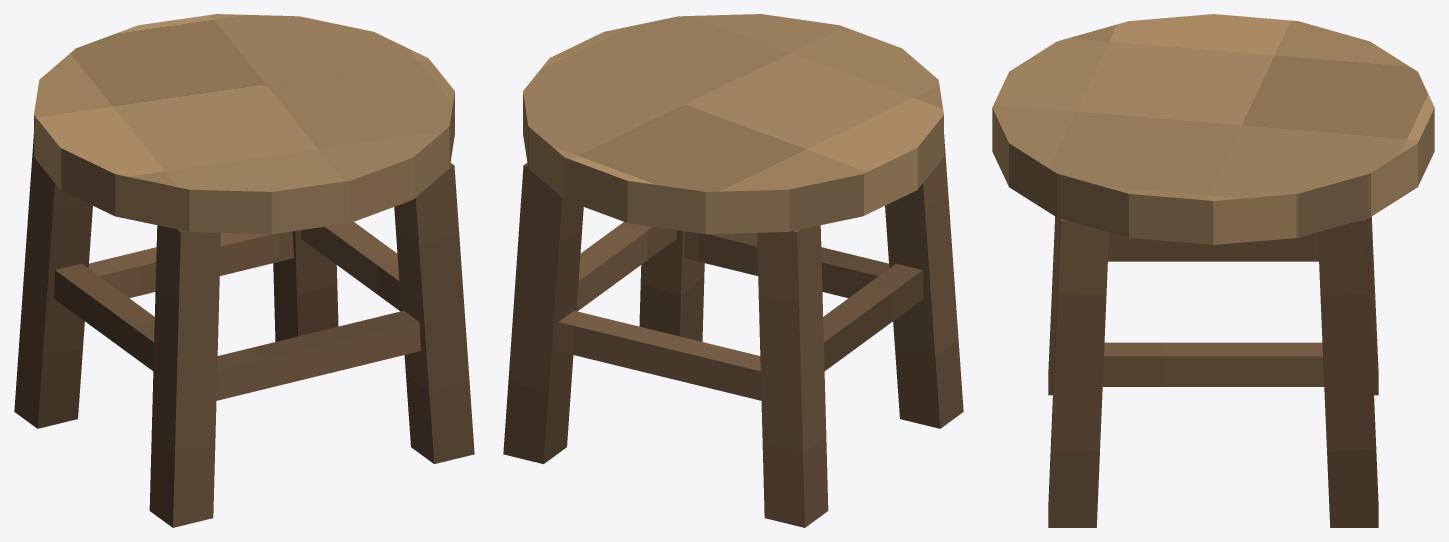
The model's file is wood-round-stool.glb.
3 renders of one model, left to right at view 1: azimuth 30°, elevation 25°; view 2: azimuth 150°, elevation 25°; view 3: azimuth 270°, elevation 25°, orthographic. The views are drawn at different scales.
Parts seen in each view (by area): view 1: wood-round-stool/seat, wood-round-stool/leg-0-0, wood-round-stool/leg-1-0, wood-round-stool/leg-0-1, wood-round-stool/cross-stretcher--1, wood-round-stool/leg-1-1, wood-round-stool/end-stretcher--1, wood-round-stool/cross-stretcher-1, wood-round-stool/end-stretcher-1; view 2: wood-round-stool/seat, wood-round-stool/leg-0-1, wood-round-stool/leg-1-1, wood-round-stool/leg-0-0, wood-round-stool/cross-stretcher-1, wood-round-stool/leg-1-0, wood-round-stool/end-stretcher--1, wood-round-stool/cross-stretcher--1, wood-round-stool/end-stretcher-1; view 3: wood-round-stool/seat, wood-round-stool/leg-1-0, wood-round-stool/leg-1-1, wood-round-stool/end-stretcher-1, wood-round-stool/end-stretcher--1, wood-round-stool/leg-0-0, wood-round-stool/leg-0-1.
Part boxes in pixels (<box>): wood-round-stool/seat: <box>34,14,454,234</box>; wood-round-stool/leg-0-0: <box>149,225,220,527</box>; wood-round-stool/leg-1-0: <box>394,163,474,463</box>; wood-round-stool/leg-0-1: <box>14,134,92,428</box>; wood-round-stool/cross-stretcher--1: <box>216,310,420,400</box>; wood-round-stool/leg-1-1: <box>273,230,338,341</box>; wood-round-stool/end-stretcher--1: <box>54,263,154,370</box>; wood-round-stool/cross-stretcher-1: <box>88,231,293,298</box>; wood-round-stool/end-stretcher-1: <box>301,222,401,311</box>; wood-round-stool/seat: <box>523,14,943,234</box>; wood-round-stool/leg-0-1: <box>757,225,828,527</box>; wood-round-stool/leg-1-1: <box>503,163,583,463</box>; wood-round-stool/leg-0-0: <box>885,134,963,428</box>; wood-round-stool/cross-stretcher-1: <box>557,310,761,400</box>; wood-round-stool/leg-1-0: <box>639,230,704,341</box>; wood-round-stool/end-stretcher--1: <box>823,263,923,370</box>; wood-round-stool/cross-stretcher--1: <box>684,231,889,298</box>; wood-round-stool/end-stretcher-1: <box>576,222,676,311</box>; wood-round-stool/seat: <box>992,14,1434,244</box>; wood-round-stool/leg-1-0: <box>1048,218,1108,527</box>; wood-round-stool/leg-1-1: <box>1318,218,1378,527</box>; wood-round-stool/end-stretcher-1: <box>1102,342,1324,386</box>; wood-round-stool/end-stretcher--1: <box>1108,232,1318,261</box>; wood-round-stool/leg-0-0: <box>1048,216,1060,395</box>; wood-round-stool/leg-0-1: <box>1366,216,1378,395</box>.
Size of the model in its own units: 0.328 by 0.2812 by 0.328.
Materials: 2 (2 with a texture image).
